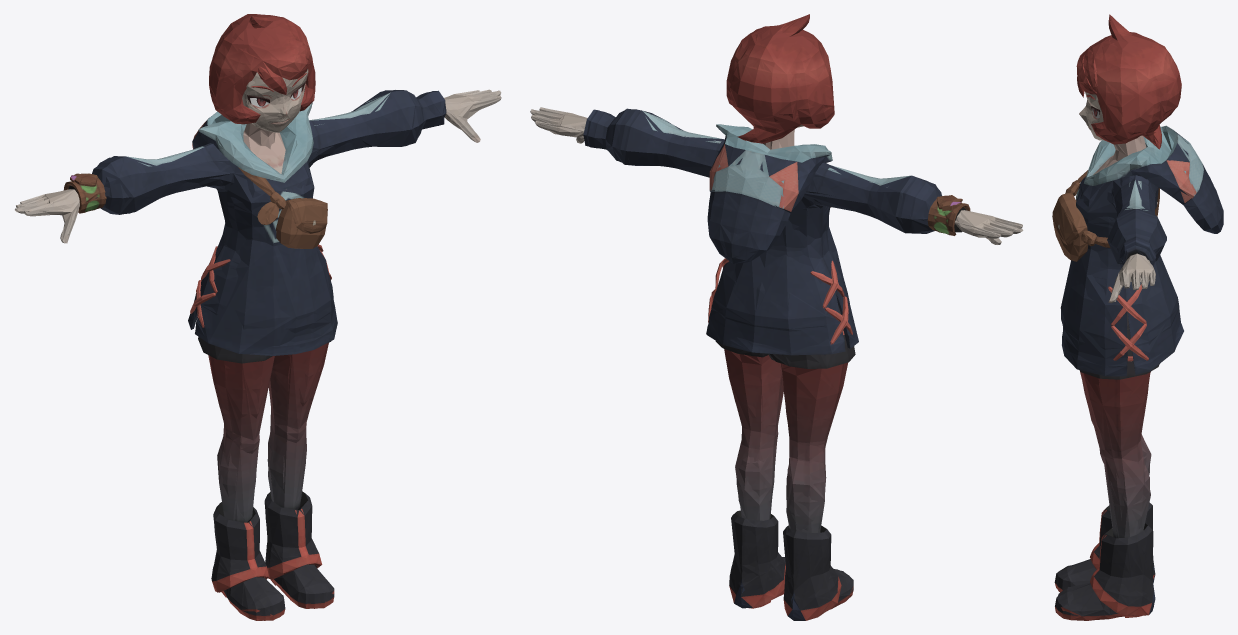
Rendered from tr0015_00_captain4.obj.
3 renders of one model, left to right at view 1: azimuth 30°, elevation 25°; view 2: azimuth 150°, elevation 25°; view 3: azimuth 270°, elevation 25°, orthographic. The views are drawn at different scales.
Visible parts, largest first — view 1: _039_upperbody_mesh_lod2_shape, _035_upperbody_mesh_lod1_shape, _040_lowerbody_mesh_lod2_shape, _041_shoes_mesh_lod2_shape, _031_upperbody_mesh_shape, _029_hairstyle_mesh_lod2_shape, _037_shoes_mesh_lod1_shape, _036_lowerbody_mesh_lod1_shape, _038_hoodie_mesh_lod2_shape, _028_hairstyle_mesh_lod1_shape, _044_upperbody_mesh_lod2_shape, _032_lowerbody_mesh_shape (+10 smaller); view 2: _039_upperbody_mesh_lod2_shape, _040_lowerbody_mesh_lod2_shape, _035_upperbody_mesh_lod1_shape, _029_hairstyle_mesh_lod2_shape, _041_shoes_mesh_lod2_shape, _038_hoodie_mesh_lod2_shape, _031_upperbody_mesh_shape, _036_lowerbody_mesh_lod1_shape, _034_hoodie_mesh_lod1_shape, _028_hairstyle_mesh_lod1_shape, _032_lowerbody_mesh_shape, _037_shoes_mesh_lod1_shape (+6 smaller); view 3: _039_upperbody_mesh_lod2_shape, _029_hairstyle_mesh_lod2_shape, _040_lowerbody_mesh_lod2_shape, _035_upperbody_mesh_lod1_shape, _041_shoes_mesh_lod2_shape, _031_upperbody_mesh_shape, _038_hoodie_mesh_lod2_shape, _028_hairstyle_mesh_lod1_shape, _037_shoes_mesh_lod1_shape, _036_lowerbody_mesh_lod1_shape, _034_hoodie_mesh_lod1_shape, _027_hairstyle_mesh_shape (+10 smaller).
Part boxes in pixels (x1,y1,x2,y2): _039_upperbody_mesh_lod2_shape: [68, 90, 445, 354]; _035_upperbody_mesh_lod1_shape: [74, 92, 446, 355]; _040_lowerbody_mesh_lod2_shape: [198, 336, 331, 522]; _041_shoes_mesh_lod2_shape: [211, 491, 334, 620]; _031_upperbody_mesh_shape: [70, 90, 446, 354]; _029_hairstyle_mesh_lod2_shape: [209, 14, 315, 124]; _037_shoes_mesh_lod1_shape: [212, 492, 334, 620]; _036_lowerbody_mesh_lod1_shape: [203, 347, 325, 521]; _038_hoodie_mesh_lod2_shape: [192, 102, 313, 182]; _028_hairstyle_mesh_lod1_shape: [209, 15, 315, 123]; _044_upperbody_mesh_lod2_shape: [14, 89, 500, 243]; _032_lowerbody_mesh_shape: [204, 341, 328, 522]; _039_upperbody_mesh_lod2_shape: [583, 108, 965, 355]; _040_lowerbody_mesh_lod2_shape: [715, 306, 855, 532]; _035_upperbody_mesh_lod1_shape: [593, 110, 965, 354]; _029_hairstyle_mesh_lod2_shape: [726, 17, 834, 143]; _041_shoes_mesh_lod2_shape: [729, 511, 853, 620]; _038_hoodie_mesh_lod2_shape: [707, 124, 832, 263]; _031_upperbody_mesh_shape: [586, 109, 960, 354]; _036_lowerbody_mesh_lod1_shape: [730, 352, 849, 530]; _034_hoodie_mesh_lod1_shape: [710, 124, 832, 263]; _028_hairstyle_mesh_lod1_shape: [726, 17, 833, 143]; _032_lowerbody_mesh_shape: [731, 330, 848, 530]; _037_shoes_mesh_lod1_shape: [729, 510, 853, 613]; _039_upperbody_mesh_lod2_shape: [1060, 175, 1180, 376]; _029_hairstyle_mesh_lod2_shape: [1076, 14, 1181, 148]; _040_lowerbody_mesh_lod2_shape: [1079, 311, 1159, 538]; _035_upperbody_mesh_lod1_shape: [1061, 176, 1183, 376]; _041_shoes_mesh_lod2_shape: [1054, 502, 1155, 620]; _031_upperbody_mesh_shape: [1062, 175, 1182, 372]; _038_hoodie_mesh_lod2_shape: [1084, 125, 1223, 233]; _028_hairstyle_mesh_lod1_shape: [1077, 16, 1175, 144]; _037_shoes_mesh_lod1_shape: [1056, 507, 1154, 619]; _036_lowerbody_mesh_lod1_shape: [1084, 328, 1149, 538]; _034_hoodie_mesh_lod1_shape: [1084, 126, 1222, 229]; _027_hairstyle_mesh_shape: [1077, 15, 1177, 149].
Bounding box in the file's own units: 1.47 × 1.69 × 0.4544.
Materials: 8 (8 with a texture image).
